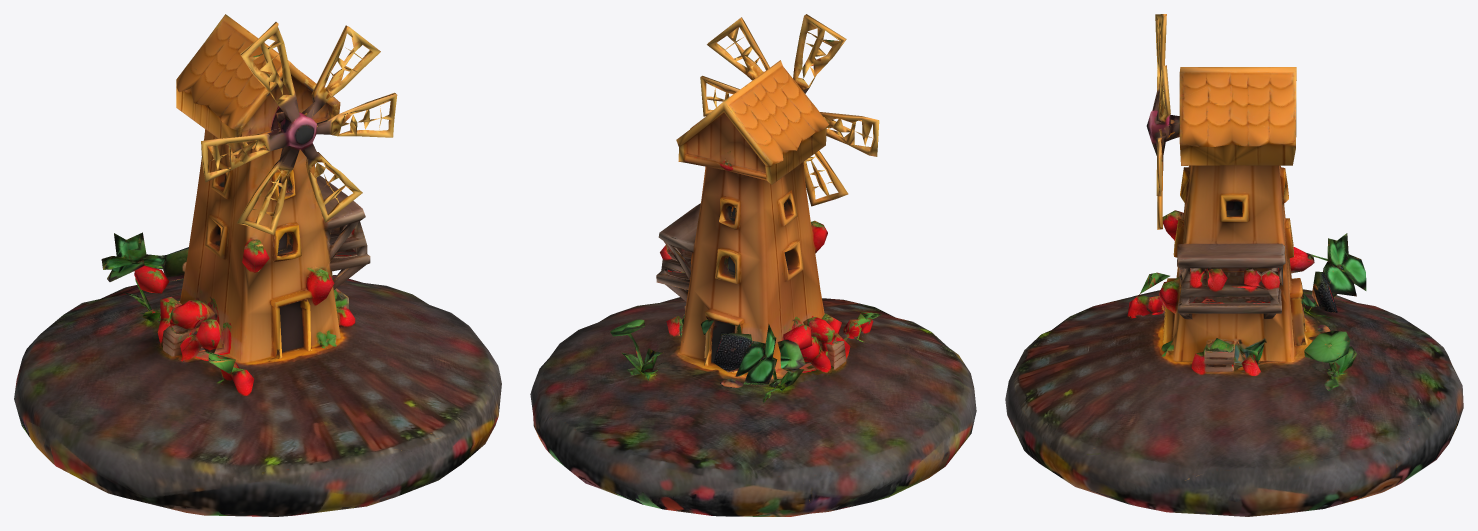
File: Meshy_AI_Berry_Windmill_0201113259_texture.fbx
The picture shows the model from 3 angles, left to right: view 1: azimuth 30°, elevation 25°; view 2: azimuth 150°, elevation 25°; view 3: azimuth 270°, elevation 25°; orthographic projection. The views are drawn at different scales.
Visible parts, largest first — view 1: Mesh1.0; view 2: Mesh1.0; view 3: Mesh1.0.
Boxes of the visible parts, x1,y1,x2,y2 form: Mesh1.0: [14, 14, 501, 516]; Mesh1.0: [530, 14, 976, 516]; Mesh1.0: [1005, 14, 1463, 516].
Bounding box in the file's own units: 201 × 197 × 201.
Materials: 1 (1 with a texture image).
